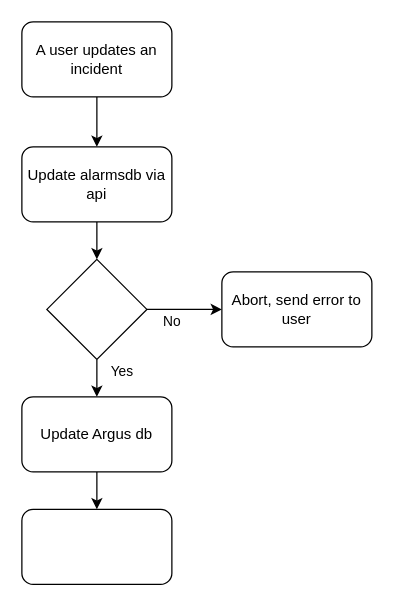
Some shapes in this 394 by 606 pixel diagram are drawn without their labels. The shapes that lost their labels are listed below. From the top down, each one's centre as x and y in pixels, then its label:
(96,308): Success?
(96,546): Send ok to user
